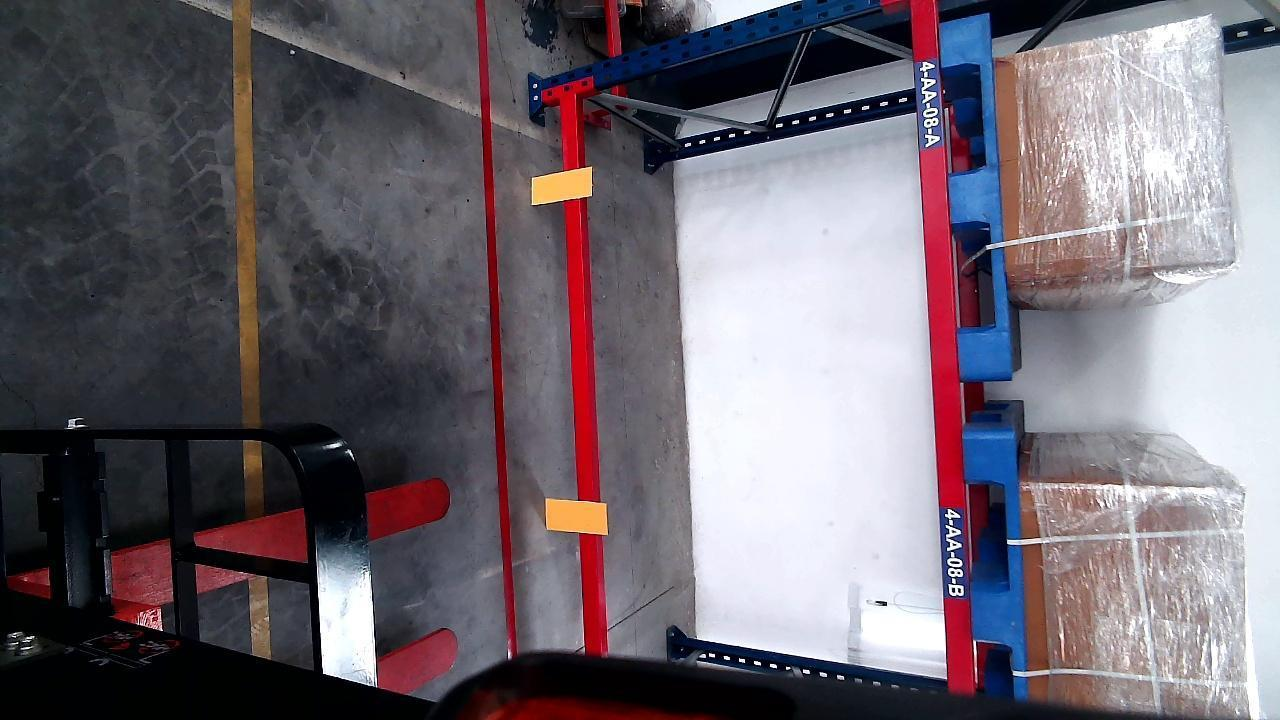h_rack: (915, 7, 971, 687), (563, 89, 603, 660)
orange_strip: (531, 166, 592, 204), (545, 499, 607, 533)
red_line: (473, 0, 520, 654)
small_pallet: (942, 11, 1008, 378), (968, 432, 1026, 693)
yellow_line: (234, 0, 260, 423)
